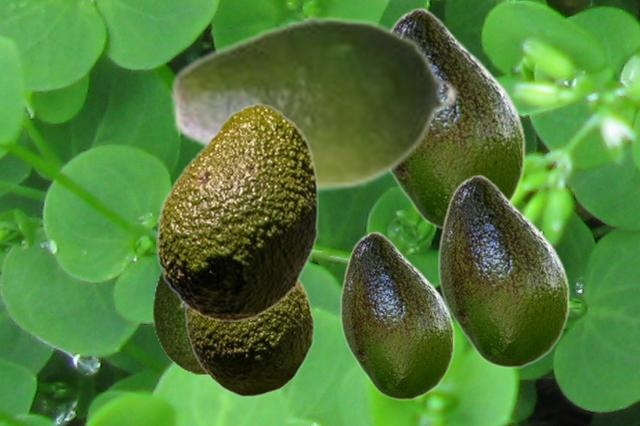avocado: (167, 12, 459, 193), (156, 103, 317, 322), (389, 7, 525, 230), (438, 174, 569, 367), (340, 231, 454, 399), (179, 280, 314, 396), (152, 269, 205, 374)
